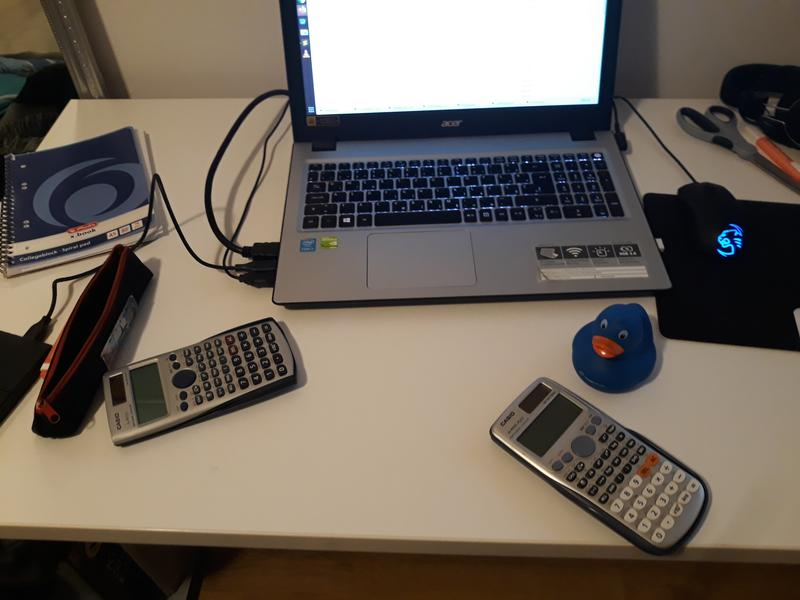CASIO_fx_991ES: (94, 300, 297, 455)
CASIO_fx_991ES_PLUS: (491, 358, 723, 559)
plava_patkica: (562, 287, 677, 392)
